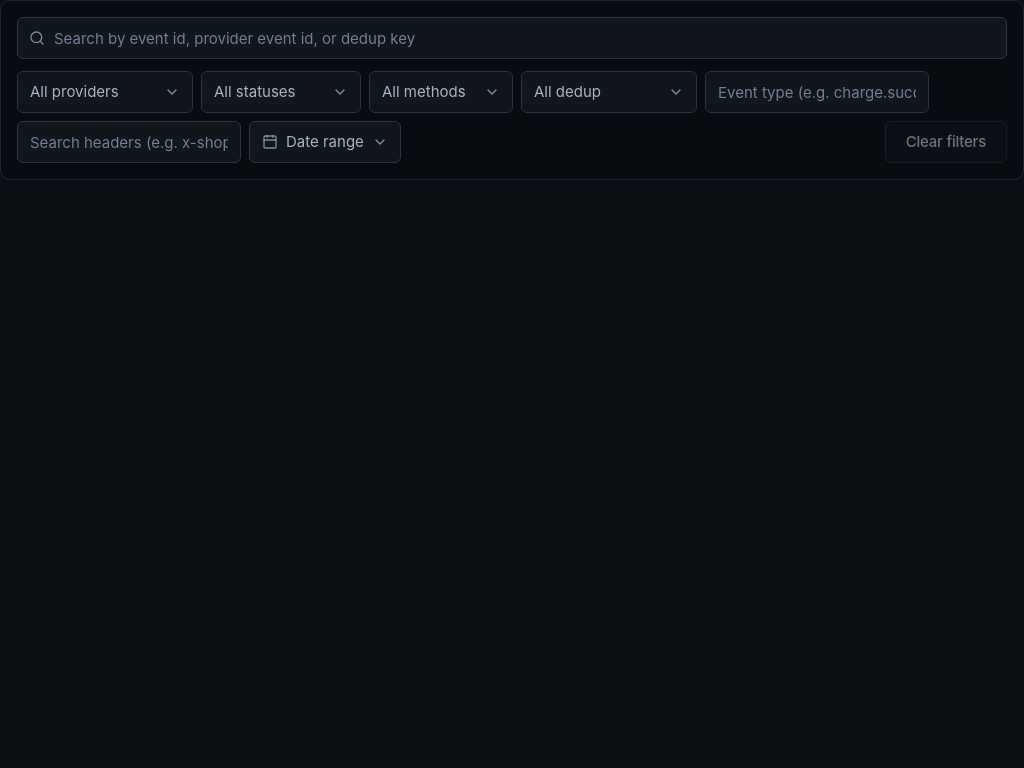
Test: EventsFilterBar › renders provider options as display names with brand logos (not raw slugs)
Step 1. Click the button with aria-label "Filter by provider" → (105, 92), box [17, 71, 193, 113]
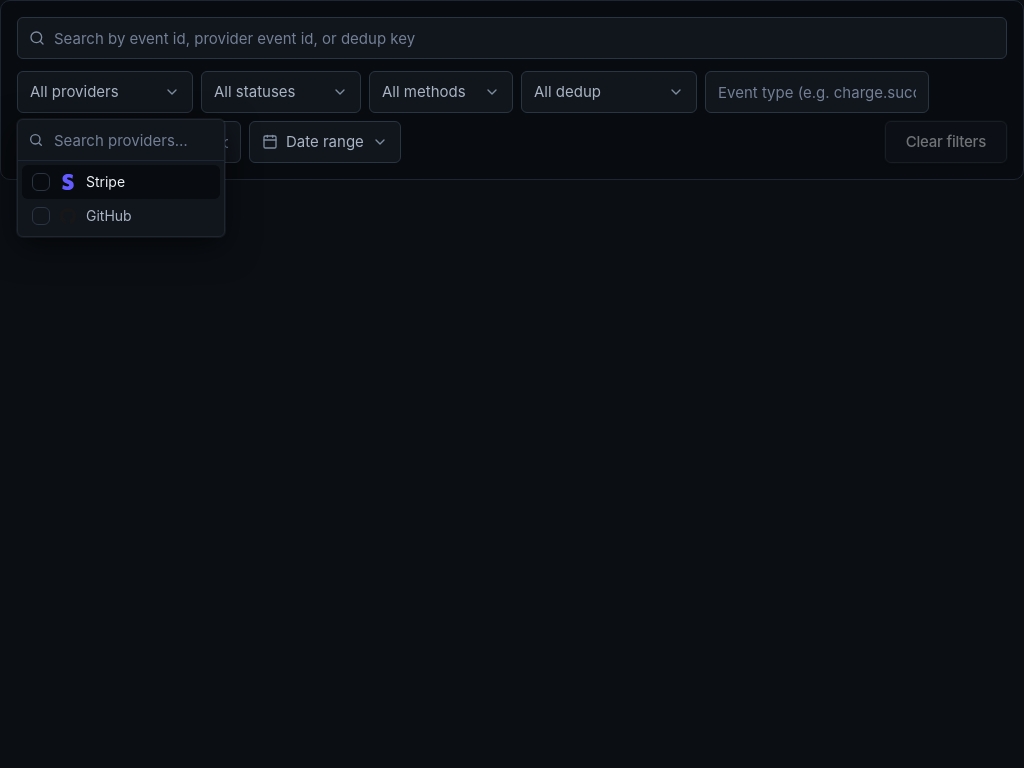
Check: the option "Stripe" is shown, box [22, 165, 220, 199]
Check: the option "GitHub" is shown, box [22, 199, 220, 232]
Check: the 8th icon is shown, box [60, 174, 76, 190]
